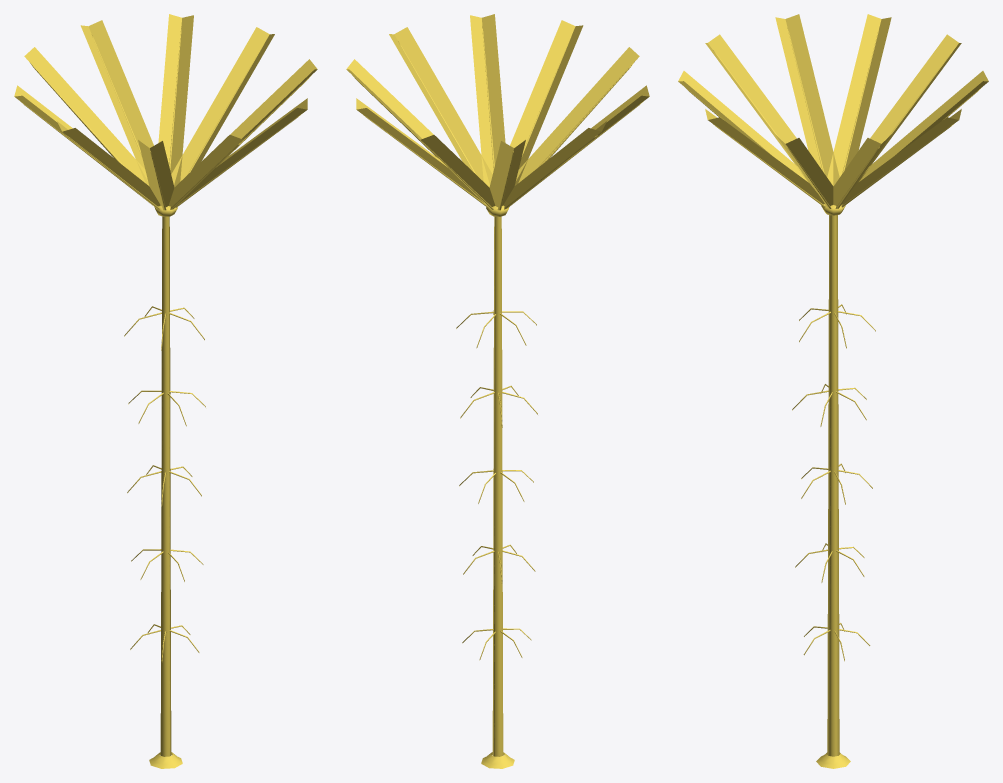
Rendered from crinoid_sea_lily_game.glb.
3 views of the same model, side by side, from view 1: azimuth 30°, elevation 25°; view 2: azimuth 150°, elevation 25°; view 3: azimuth 270°, elevation 25° (orthographic).
Visible parts, largest first — view 1: crinoid_sea_lily_game; view 2: crinoid_sea_lily_game; view 3: crinoid_sea_lily_game.
Part boxes in pixels (x1,y1,x2,y2): crinoid_sea_lily_game: (14, 14, 317, 768); crinoid_sea_lily_game: (346, 14, 649, 768); crinoid_sea_lily_game: (678, 14, 988, 768).
Bounding box in the file's own units: 0.2024 × 0.518 × 0.2128.
